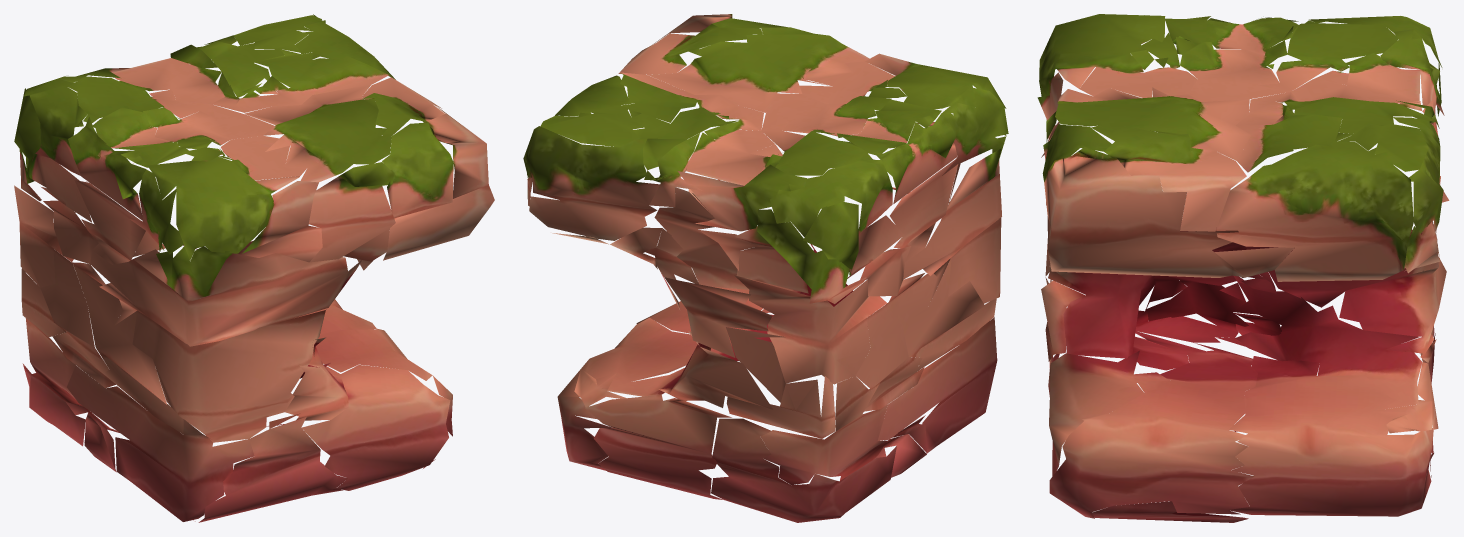
Rendered from sandstone-overhang.glb.
The picture shows the model from 3 angles, left to right: view 1: azimuth 30°, elevation 25°; view 2: azimuth 150°, elevation 25°; view 3: azimuth 270°, elevation 25°; orthographic projection. The views are drawn at different scales.
Visible parts, largest first — view 1: tripo_node_5c7f98b1-3468-4e91-976d-2a2f368058fa; view 2: tripo_node_5c7f98b1-3468-4e91-976d-2a2f368058fa; view 3: tripo_node_5c7f98b1-3468-4e91-976d-2a2f368058fa.
Part boxes in pixels (box(x1,y1,x2,y2)): tripo_node_5c7f98b1-3468-4e91-976d-2a2f368058fa: box(14, 14, 494, 522); tripo_node_5c7f98b1-3468-4e91-976d-2a2f368058fa: box(523, 14, 1008, 522); tripo_node_5c7f98b1-3468-4e91-976d-2a2f368058fa: box(1037, 14, 1449, 522).
Bounding box in the file's own units: 1.02 × 1.01 × 1.01.
Materials: 1 (1 with a texture image).
